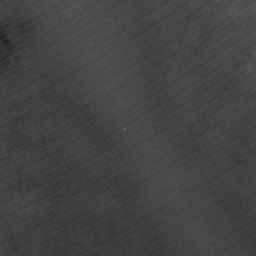Target: (121, 126, 128, 131)
